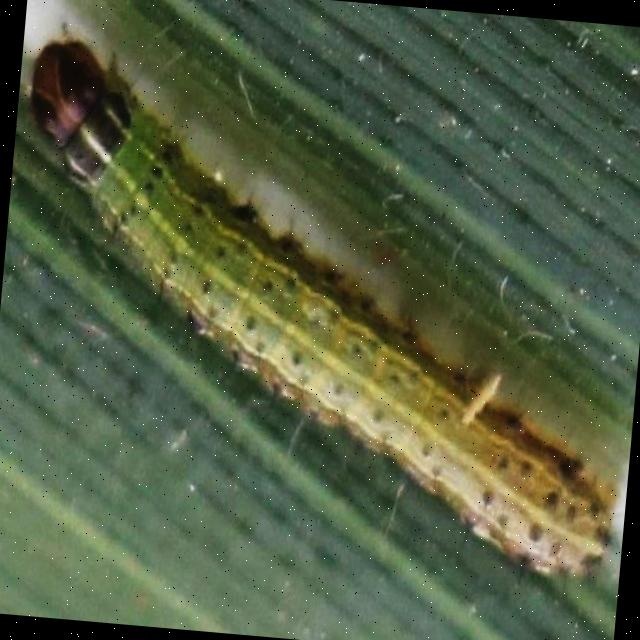worm: (1, 27, 640, 588), (21, 24, 141, 193)
